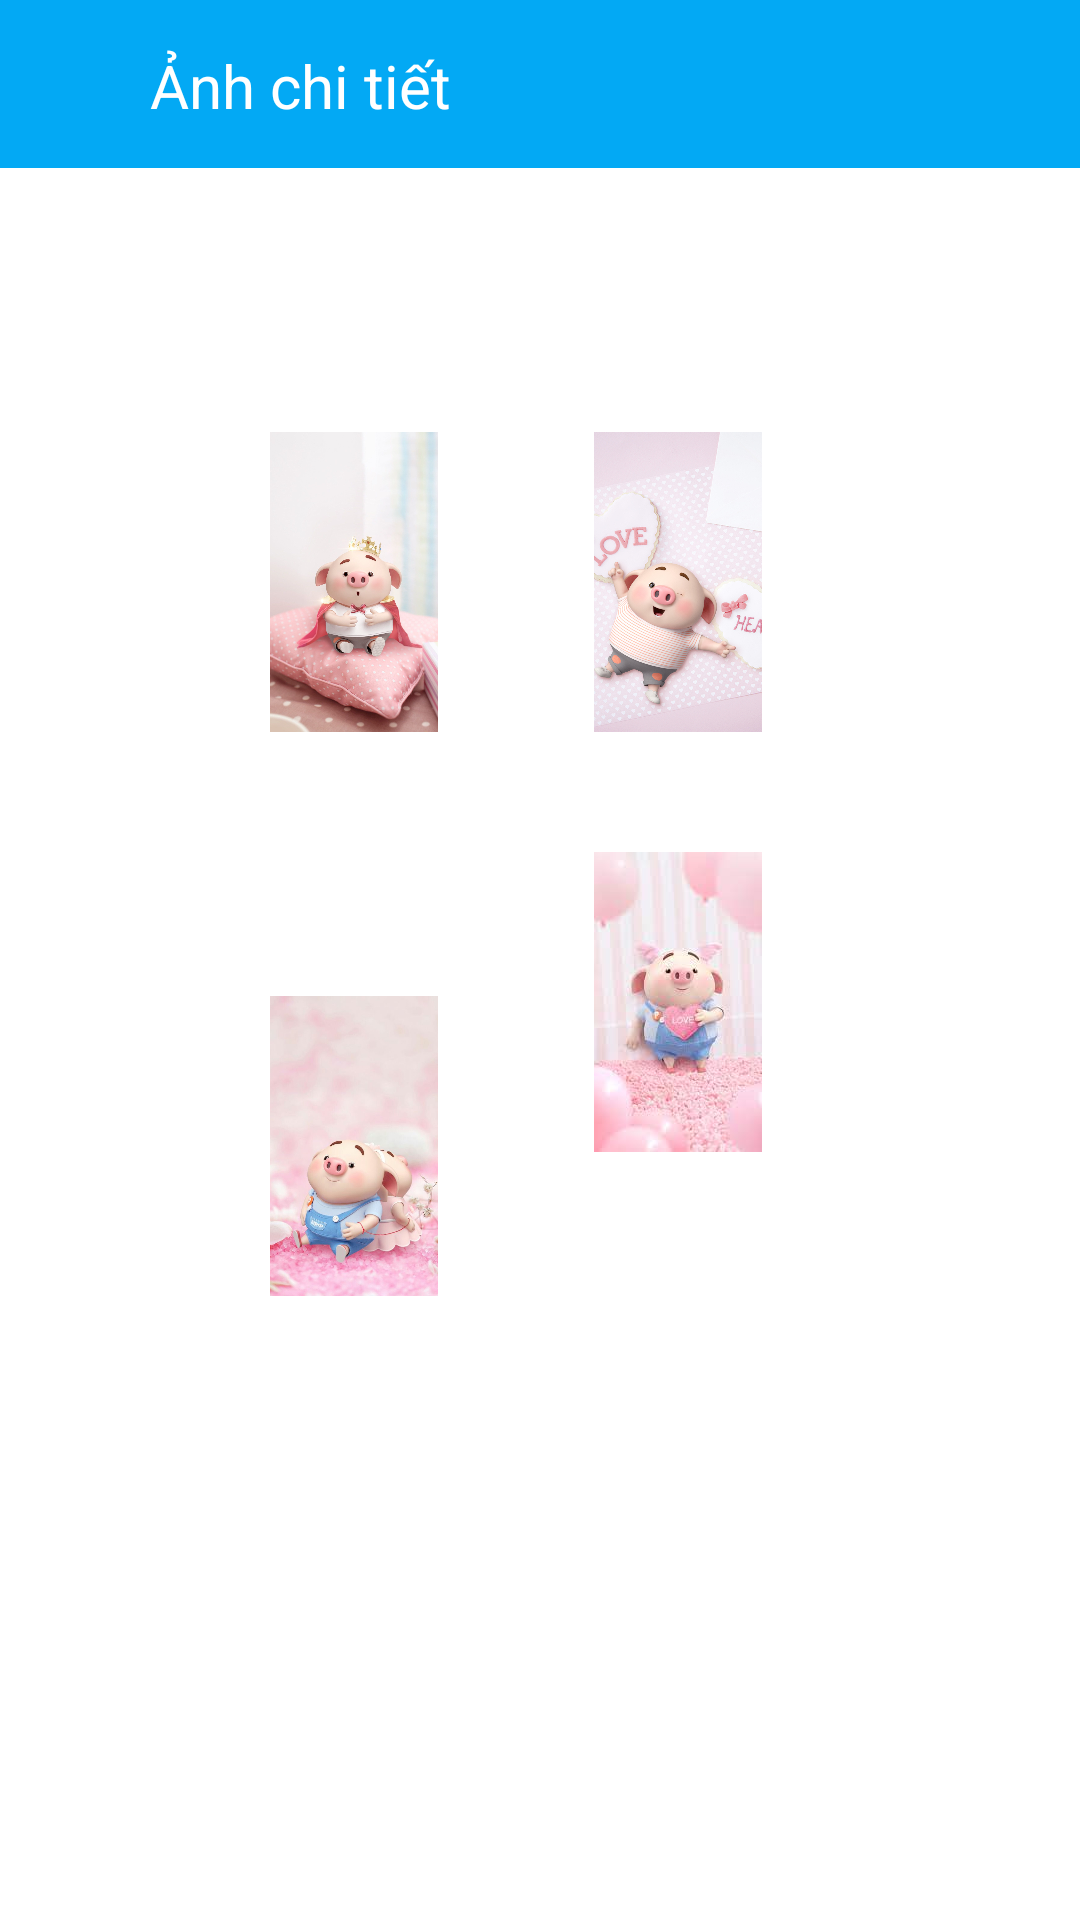

Icons on this 1080*1920 Android screen, each with the point to tap as point (x, y):
heo: point (354, 582), point (678, 582), point (678, 1002), point (354, 1146)
